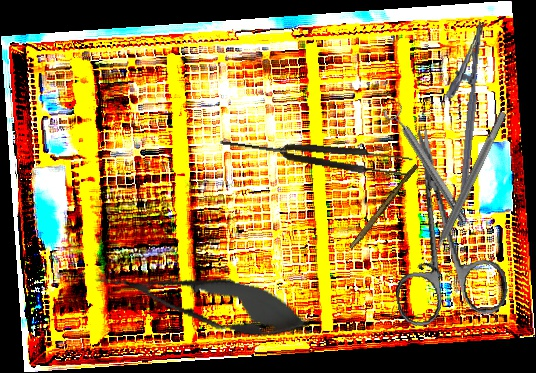Fixation Ring: (416, 106, 517, 280), (381, 100, 473, 228)
Iris Scissors: (370, 118, 512, 329)
Micro Scissor: (87, 250, 317, 350)
Needle Holder: (436, 18, 486, 194)
Scalpel Handle: (348, 162, 420, 252)
Tissue Forceps: (218, 129, 414, 180)
